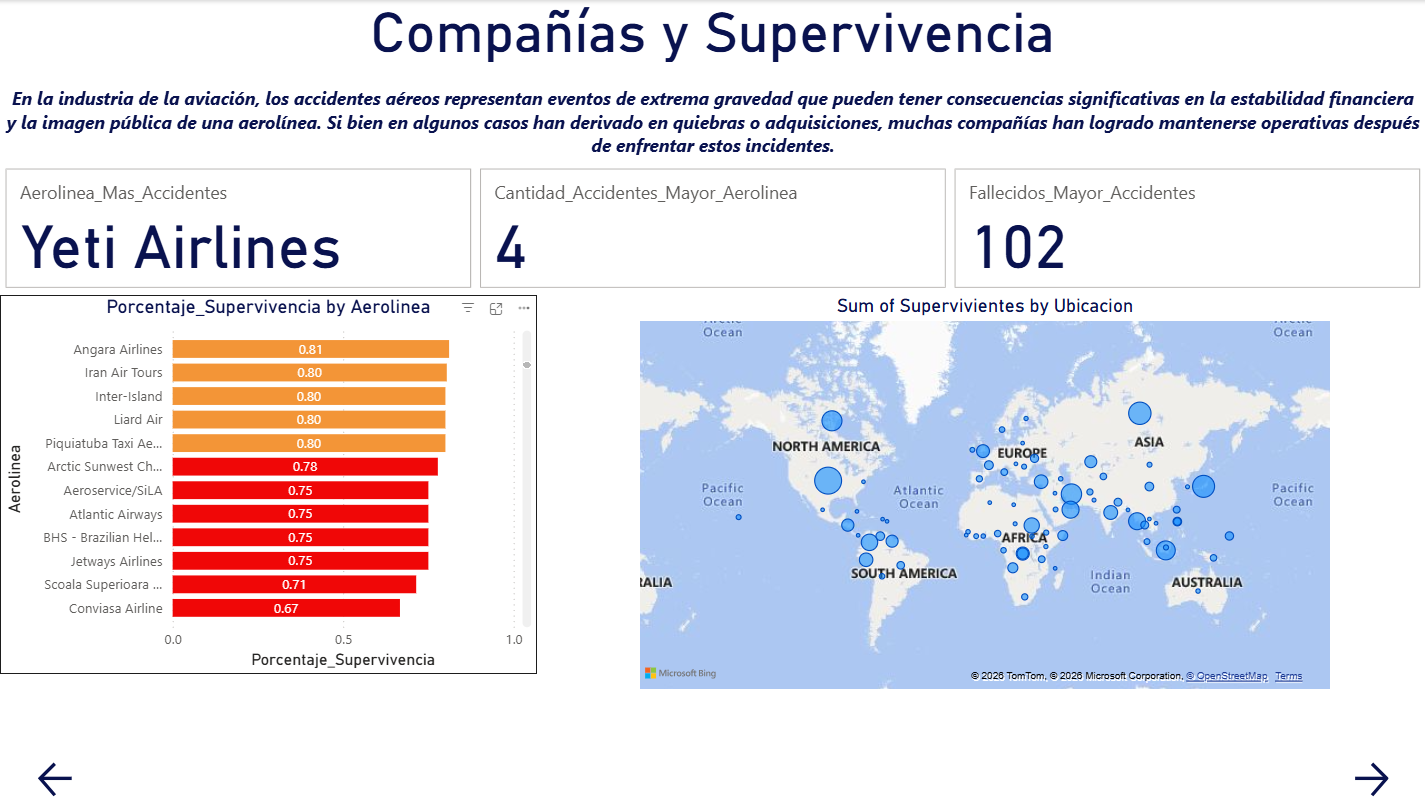

This screenshot's page, from the dashboard's own definition file:
{"tool":"powerbi","page":{"name":"Compañías y Supervivencia","canvas":[1280,720],"ordinal":3},"visuals":[{"type":"actionButton","box":[0,679.6,99.7,40.4],"z":0},{"type":"actionButton","box":[1180.5,679.6,99.7,40.4],"z":1000},{"type":"textbox","title":"Compañías y Supervivencia","box":[0,0,1280.2,55.7],"z":2000},{"type":"map","fields":{"Category":["Tabla_Accidente.Ubicacion"],"Size":["Sum(Tabla_Pasajeros.Supervivientes)"]},"box":[569.2,263.9,630.2,360],"z":3000},{"type":"cardVisual","fields":{"Data":["Medidas.Aerolinea_Mas_Frecuente","Medidas.Cantidad_Accidentes_Mayor_Aerolinea","Medidas.Fallecidos_Mayor_Accidentes"]},"box":[0,146.3,1280.2,117.6],"z":4000},{"type":"textbox","box":[0,55.7,1280.2,90.7],"z":6000},{"type":"clusteredBarChart","fields":{"Category":["Tabla_Aerolinea.Aerolinea"],"Y":["Medidas.Porcentaje_Supervivencia"]},"box":[0,264.8,482.1,340.2],"z":7000}]}

Visuals, with their boxes in screenshot pixels (x1, y1, x2, y2), scaled from the page's 1280x720 canvas onto the 1425x801 screenshot:
actionButton: pyautogui.locateOnScreen(0, 756, 111, 800)
actionButton: pyautogui.locateOnScreen(1314, 756, 1424, 800)
"Compañías y Supervivencia" textbox: pyautogui.locateOnScreen(0, 0, 1424, 62)
map - Tabla_Accidente.Ubicacion x Sum(Tabla_Pasajeros.Supervivientes): pyautogui.locateOnScreen(634, 294, 1335, 694)
cardVisual - Medidas.Aerolinea_Mas_Frecuente x Medidas.Cantidad_Accidentes_Mayor_Aerolinea: pyautogui.locateOnScreen(0, 163, 1424, 294)
textbox: pyautogui.locateOnScreen(0, 62, 1424, 163)
clusteredBarChart - Tabla_Aerolinea.Aerolinea x Medidas.Porcentaje_Supervivencia: pyautogui.locateOnScreen(0, 295, 537, 673)
